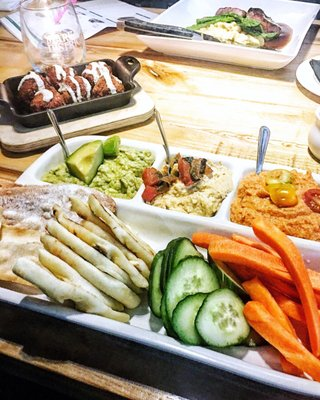pizza: (19, 0, 87, 72)
sushi: (1, 57, 143, 127)
